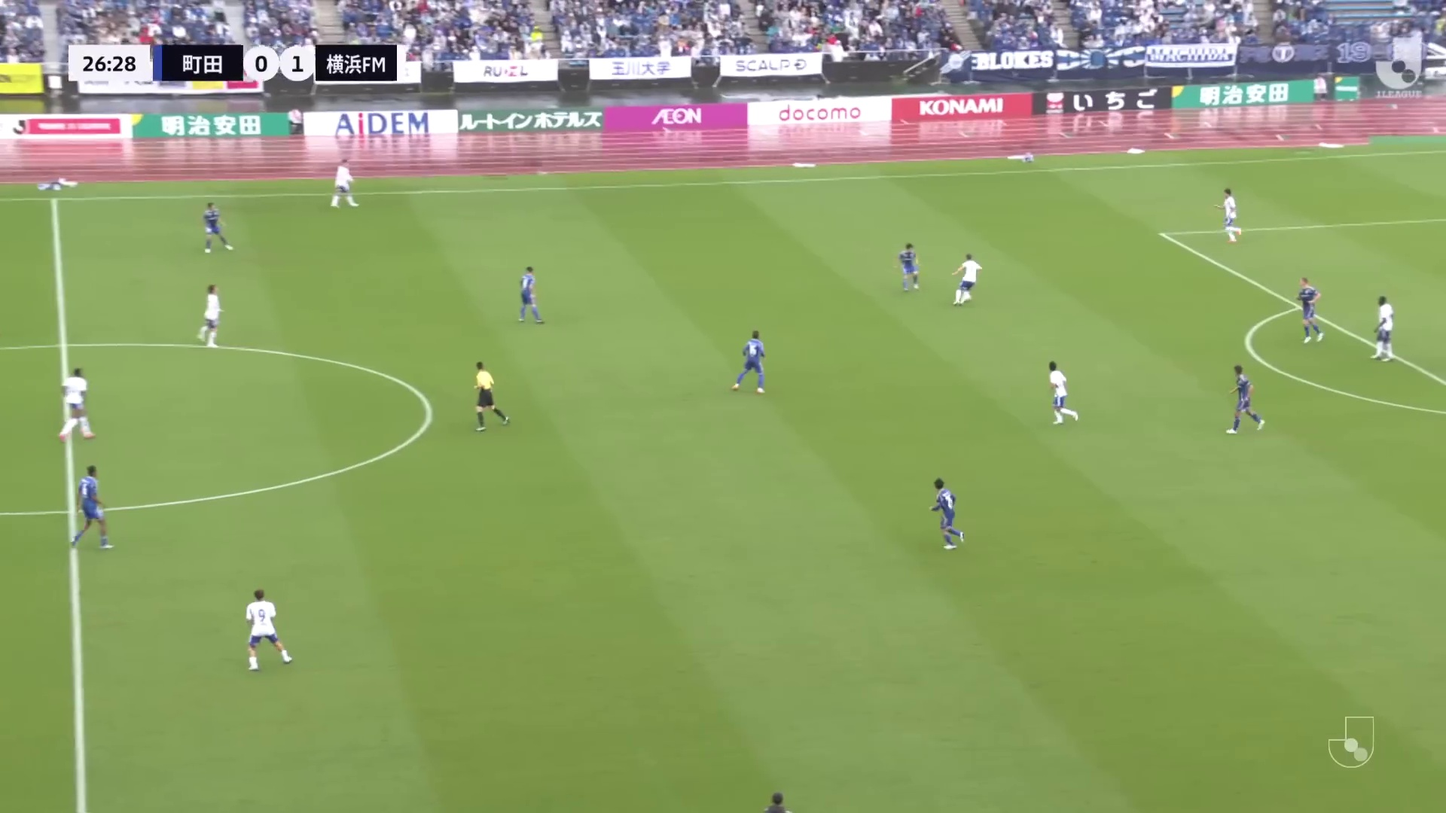ball: (963, 295, 972, 303)
player: (239, 588, 296, 672), (68, 464, 116, 552), (1223, 364, 1267, 437), (56, 367, 97, 443), (927, 477, 969, 551), (730, 330, 770, 396), (1044, 360, 1082, 428), (1292, 276, 1327, 346), (514, 265, 548, 326), (194, 283, 225, 349), (1369, 295, 1399, 363), (198, 201, 236, 254), (949, 253, 984, 308), (328, 157, 361, 211), (1214, 187, 1245, 244), (896, 242, 924, 293)
referee: (468, 360, 512, 433)
